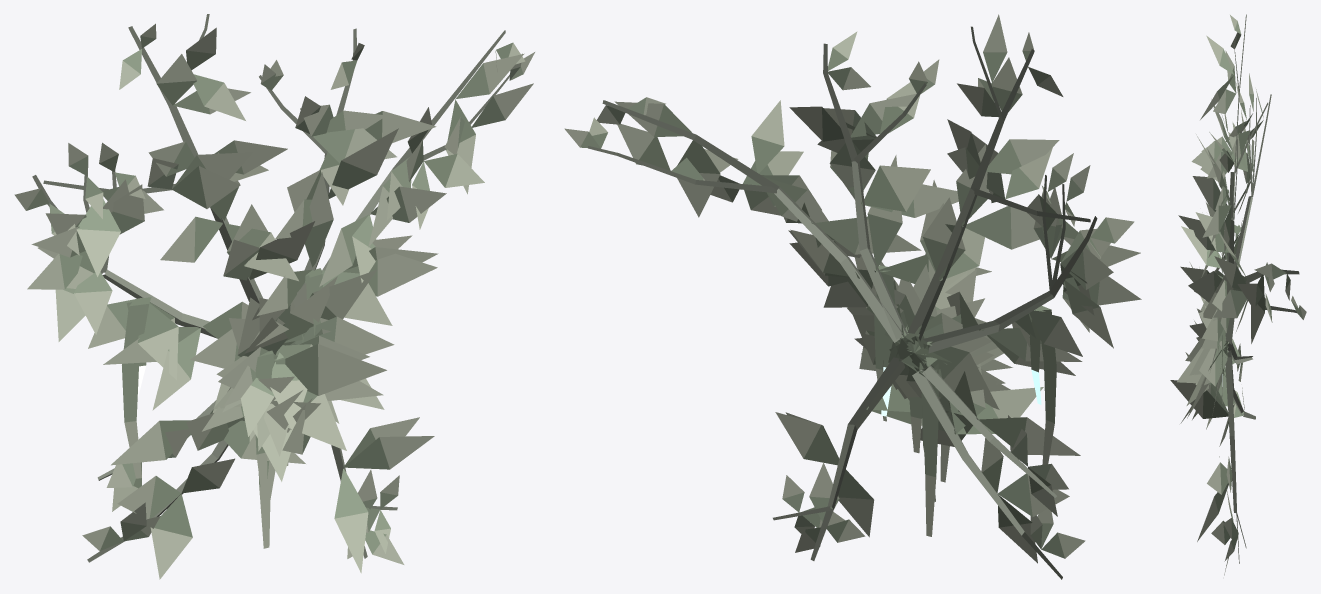
The model's file is plant_t1_s2.fbx.
3 renders of one model, left to right at view 1: azimuth 30°, elevation 25°; view 2: azimuth 150°, elevation 25°; view 3: azimuth 270°, elevation 25°, orthographic. The views are drawn at different scales.
Parts seen in each view (by area): view 1: plant_t1_s2; view 2: plant_t1_s2; view 3: plant_t1_s2.
Part boxes in pixels (x1=…): plant_t1_s2: x1=14, y1=14, x2=534, y2=579; plant_t1_s2: x1=564, y1=14, x2=1141, y2=579; plant_t1_s2: x1=1170, y1=14, x2=1306, y2=575.
Size of the model in its own units: 25.69 by 26.53 by 6.97.
